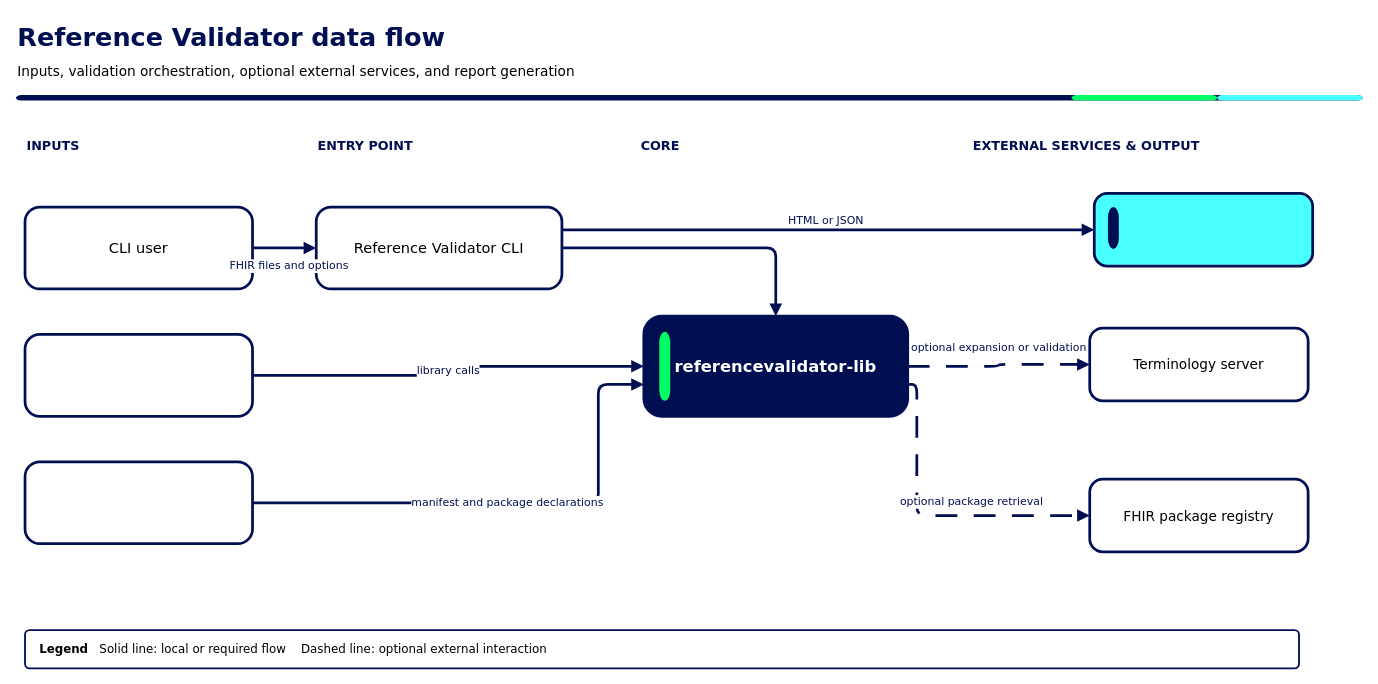
The diagram is 1378 pixels wide and 684 high, and some of its shapes have lost their labels. Each missing label, with the box of its shape:
Embedding application: (23, 333, 253, 417)
Report file: (1092, 192, 1314, 267)
Validation module JAR: (23, 460, 253, 545)
